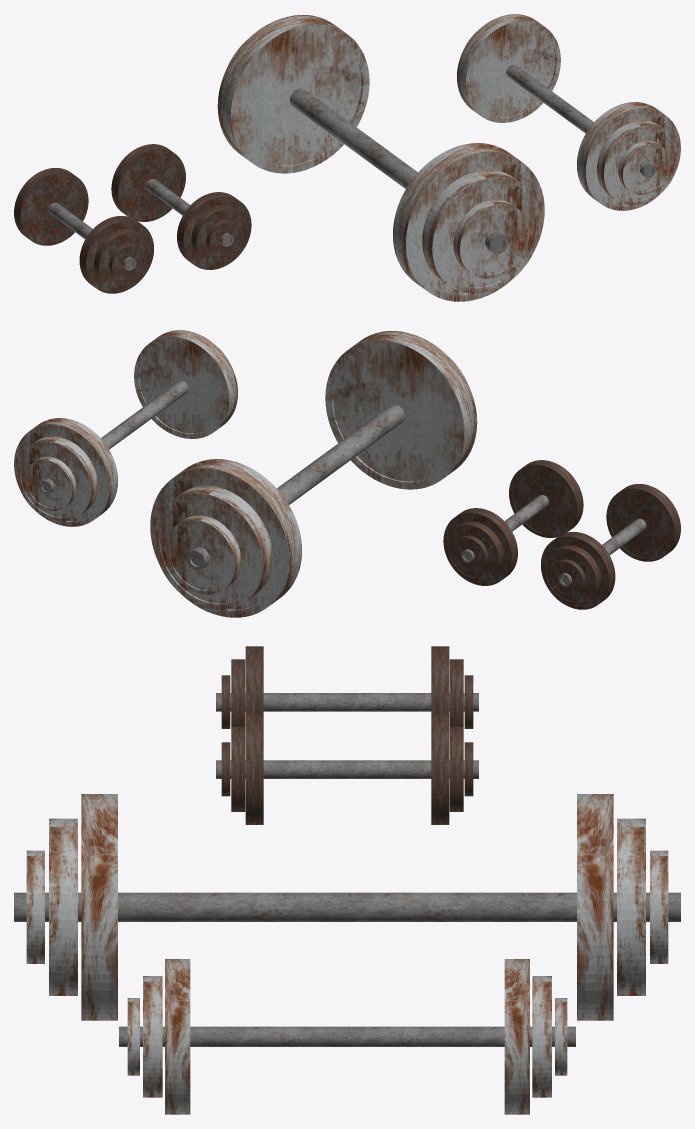
File: kit_pesas_lowpolykit_dumbells.glb
3 renders of one model, top to bottom at view 1: azimuth 30°, elevation 25°; view 2: azimuth 150°, elevation 25°; view 3: azimuth 270°, elevation 25°, orthographic. The views are drawn at different scales.
Parts seen in each view (by area): view 1: Disco_mancuernas_0, Disco_mancuernas.009_12, Disco_mancuernas.001_1, Disco_mancuernas.006_8, Disco_mancuernas.003_4, Disco_mancuernas.002_2, Barra_3, Disco_mancuernas.010_13, Disco_mancuernas.011_14, Barra2_15, Disco_mancuernas.004_5, Disco_mancuernas.007_9 (+4 smaller); view 2: Disco_mancuernas_0, Disco_mancuernas.009_12, Disco_mancuernas.001_1, Disco_mancuernas.006_8, Disco_mancuernas.003_4, Disco_mancuernas.002_2, Barra_3, Disco_mancuernas.010_13, Disco_mancuernas.011_14, Barra2_15, Disco_mancuernas.004_5, Disco_mancuernas.007_9 (+4 smaller); view 3: Disco_mancuernas_0, Barra_3, Disco_mancuernas.001_1, Disco_mancuernas.009_12, Barra2_15, Disco_mancuernas.010_13, Disco_mancuernas.002_2, Disco_mancuernas.003_4, Mancuerna_7, Mancuerna2_11, Disco_mancuernas.006_8, Disco_mancuernas.004_5 (+4 smaller).
Boxes of the visible parts, x1,y1,x2,y2 form: Disco_mancuernas_0: (217, 15, 544, 301); Disco_mancuernas.009_12: (457, 14, 680, 210); Disco_mancuernas.001_1: (228, 40, 540, 293); Disco_mancuernas.006_8: (14, 168, 153, 293); Disco_mancuernas.003_4: (111, 144, 251, 269); Disco_mancuernas.002_2: (453, 199, 529, 278); Barra_3: (290, 88, 507, 254); Disco_mancuernas.010_13: (466, 31, 678, 205); Disco_mancuernas.011_14: (618, 140, 670, 194); Barra2_15: (506, 64, 655, 178); Disco_mancuernas.004_5: (191, 205, 248, 265); Disco_mancuernas.007_9: (94, 229, 151, 288); Disco_mancuernas_0: (150, 331, 477, 617); Disco_mancuernas.009_12: (14, 330, 237, 526); Disco_mancuernas.001_1: (154, 356, 466, 609); Disco_mancuernas.006_8: (541, 484, 680, 609); Disco_mancuernas.003_4: (443, 460, 583, 585); Disco_mancuernas.002_2: (165, 515, 241, 594); Barra_3: (187, 404, 404, 570); Disco_mancuernas.010_13: (16, 347, 228, 521); Disco_mancuernas.011_14: (24, 456, 76, 510); Barra2_15: (39, 380, 188, 494); Disco_mancuernas.004_5: (446, 521, 503, 581); Disco_mancuernas.007_9: (543, 545, 600, 604); Disco_mancuernas_0: (81, 794, 613, 1020); Barra_3: (14, 892, 680, 921); Disco_mancuernas.001_1: (49, 818, 645, 995); Disco_mancuernas.009_12: (165, 959, 529, 1114); Barra2_15: (119, 1026, 575, 1046); Disco_mancuernas.010_13: (143, 976, 551, 1097); Disco_mancuernas.002_2: (26, 850, 668, 963); Disco_mancuernas.003_4: (245, 713, 449, 824); Mancuerna_7: (216, 760, 478, 778); Mancuerna2_11: (216, 693, 478, 711); Disco_mancuernas.006_8: (245, 646, 449, 713); Disco_mancuernas.004_5: (231, 726, 463, 811).
Bounding box in the file's own units: 1.99 × 0.4877 × 1.43.
Materials: 3 (3 with a texture image).
